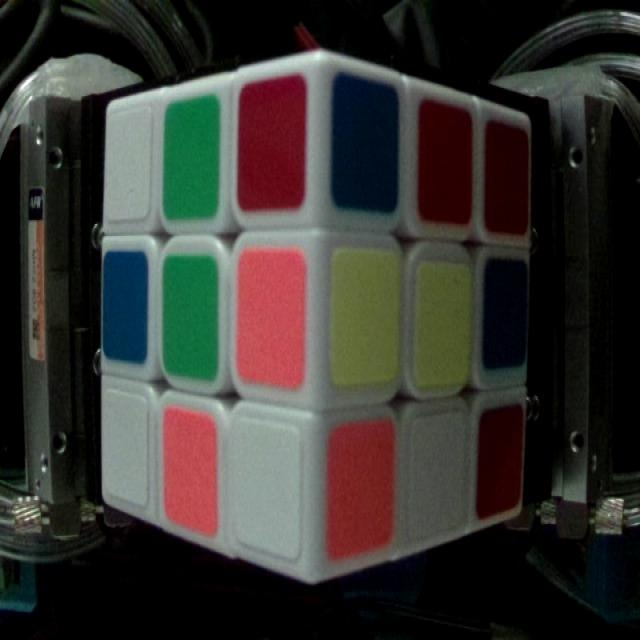b: (334, 74, 398, 202), (484, 258, 528, 361), (104, 254, 148, 356)
g: (162, 99, 220, 219), (165, 256, 217, 374)
o: (328, 422, 397, 554), (238, 254, 298, 381), (164, 408, 220, 537)
r: (240, 81, 304, 202), (418, 100, 472, 216), (480, 405, 521, 515), (485, 124, 526, 228)
w: (233, 419, 299, 557), (411, 414, 466, 534), (102, 393, 149, 500), (110, 113, 148, 220)
y: (332, 252, 398, 376), (415, 260, 471, 382)
